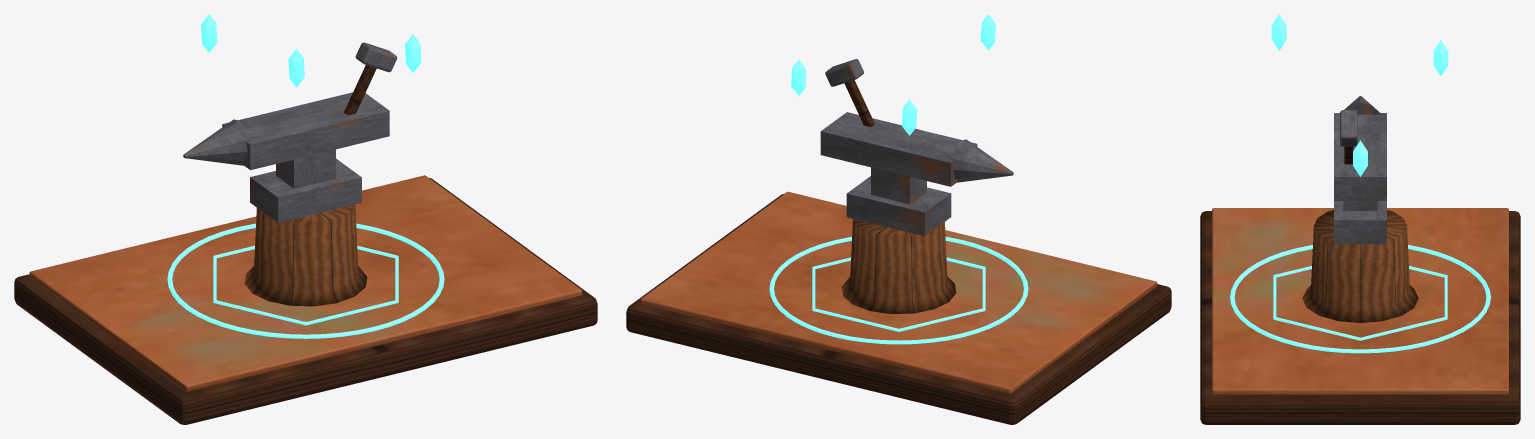
The model's file is mini_3.glb.
The picture shows the model from 3 angles, left to right: view 1: azimuth 30°, elevation 25°; view 2: azimuth 150°, elevation 25°; view 3: azimuth 270°, elevation 25°; orthographic projection. The views are drawn at different scales.
Parts seen in each view (by area): view 1: mini3_plinth_trim, mini3_plinth, mini3_anvil, mini3_stump, mini3_rune_circle, mini3_rune_circle_inner, mini3_hammer_head, mini3_hammer_handle; view 2: mini3_plinth_trim, mini3_plinth, mini3_anvil, mini3_stump, mini3_rune_circle, mini3_rune_circle_inner, mini3_hammer_head, mini3_hammer_handle; view 3: mini3_plinth_trim, mini3_plinth, mini3_stump, mini3_anvil, mini3_rune_circle, mini3_rune_circle_inner, mini3_hammer_head, mini3_floating_crystal_2, mini3_floating_crystal_1, mini3_floating_crystal_0.
Boxes of the visible parts, x1=… form: mini3_plinth_trim: x1=29, y1=175, x2=582, y2=392; mini3_plinth: x1=14, y1=178, x2=597, y2=424; mini3_anvil: x1=183, y1=92, x2=389, y2=223; mini3_stump: x1=244, y1=204, x2=367, y2=306; mini3_rune_circle: x1=167, y1=223, x2=444, y2=338; mini3_rune_circle_inner: x1=213, y1=245, x2=398, y2=325; mini3_hammer_head: x1=355, y1=42, x2=397, y2=72; mini3_hammer_handle: x1=344, y1=65, x2=376, y2=115; mini3_plinth_trim: x1=640, y1=191, x2=1157, y2=394; mini3_plinth: x1=626, y1=194, x2=1171, y2=424; mini3_anvil: x1=820, y1=112, x2=1013, y2=236; mini3_stump: x1=841, y1=219, x2=956, y2=314; mini3_rune_circle: x1=769, y1=237, x2=1028, y2=344; mini3_rune_circle_inner: x1=812, y1=257, x2=985, y2=331; mini3_hammer_head: x1=825, y1=59, x2=863, y2=86; mini3_hammer_handle: x1=844, y1=80, x2=874, y2=126; mini3_plinth_trim: x1=1212, y1=208, x2=1508, y2=395; mini3_plinth: x1=1200, y1=211, x2=1520, y2=424; mini3_stump: x1=1302, y1=210, x2=1418, y2=322; mini3_anvil: x1=1334, y1=96, x2=1386, y2=244; mini3_rune_circle: x1=1230, y1=245, x2=1490, y2=353; mini3_rune_circle_inner: x1=1273, y1=266, x2=1447, y2=340; mini3_hammer_head: x1=1340, y1=110, x2=1357, y2=146; mini3_floating_crystal_2: x1=1271, y1=14, x2=1286, y2=50; mini3_floating_crystal_1: x1=1433, y1=40, x2=1448, y2=75; mini3_floating_crystal_0: x1=1353, y1=140, x2=1367, y2=176.
Size of the model in its own units: 0.78 by 0.555 by 0.55.
5 materials, 4 textured.
